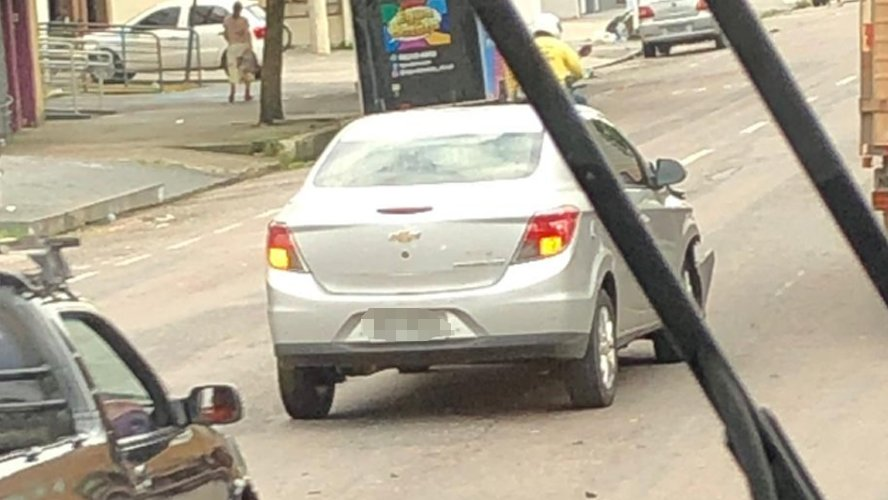Carro: (259, 101, 717, 419), (1, 289, 276, 499), (75, 1, 285, 84), (632, 1, 732, 60)
